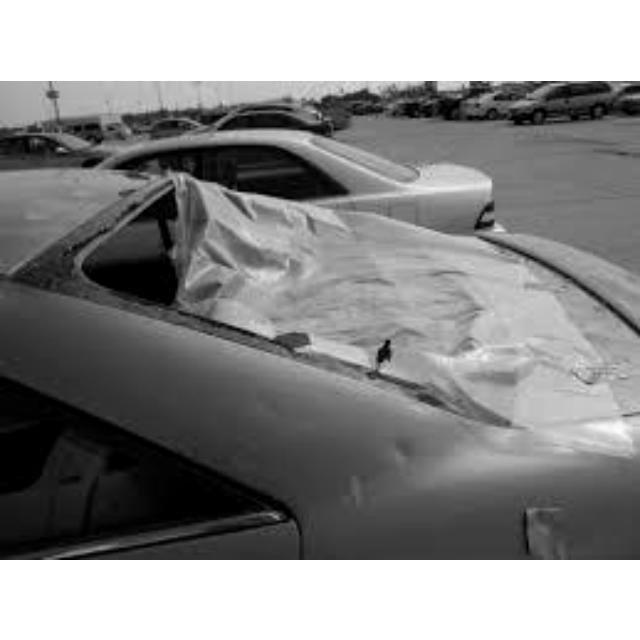Rear-windscreen-Damage: (90, 155, 507, 360)
boot-dent: (426, 221, 640, 433)
